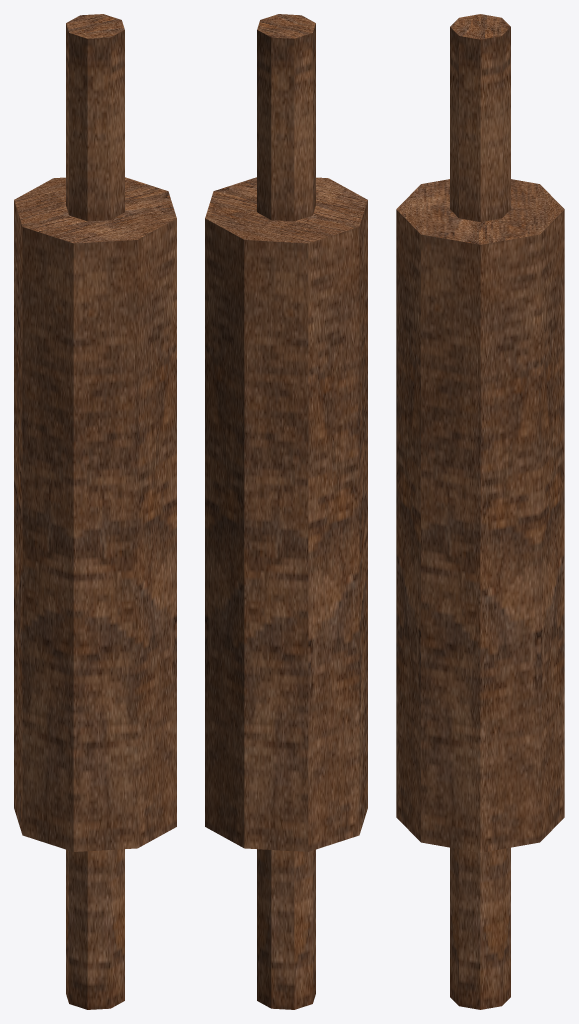
File: RollingPin.fbx
3 views of the same model, side by side, from view 1: azimuth 30°, elevation 25°; view 2: azimuth 150°, elevation 25°; view 3: azimuth 270°, elevation 25° (orthographic).
Parts seen in each view (by area): view 1: RollingPin; view 2: RollingPin; view 3: RollingPin.
Part boxes in pixels (x1,y1,x2,y2): RollingPin: [14, 14, 176, 1009]; RollingPin: [205, 14, 367, 1009]; RollingPin: [396, 14, 564, 1009].
Size of the model in its own units: 0.8155 by 5.18 by 0.8155.
